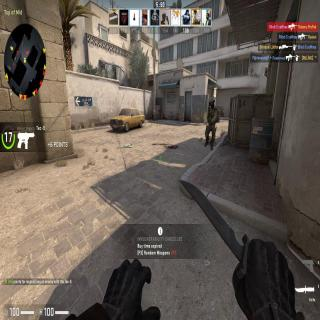CT-Body: (205, 95, 219, 146)
CT-Head: (209, 99, 215, 109)
